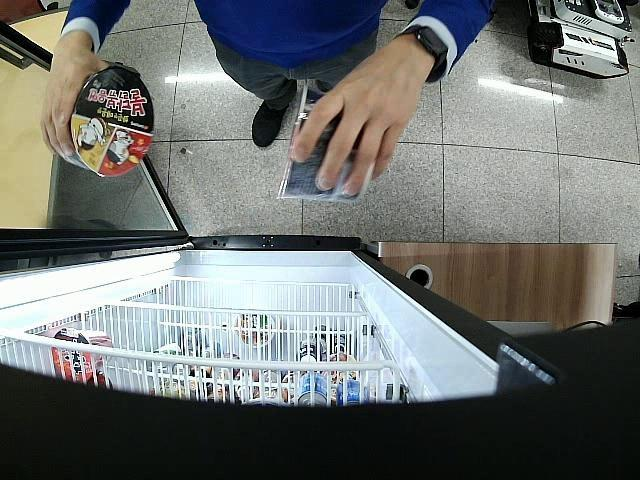07_buldak_L: (277, 84, 374, 201), (64, 66, 154, 177)
